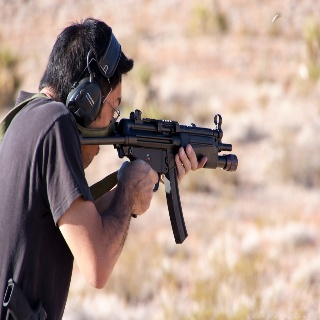rifle: (77, 110, 239, 245)
